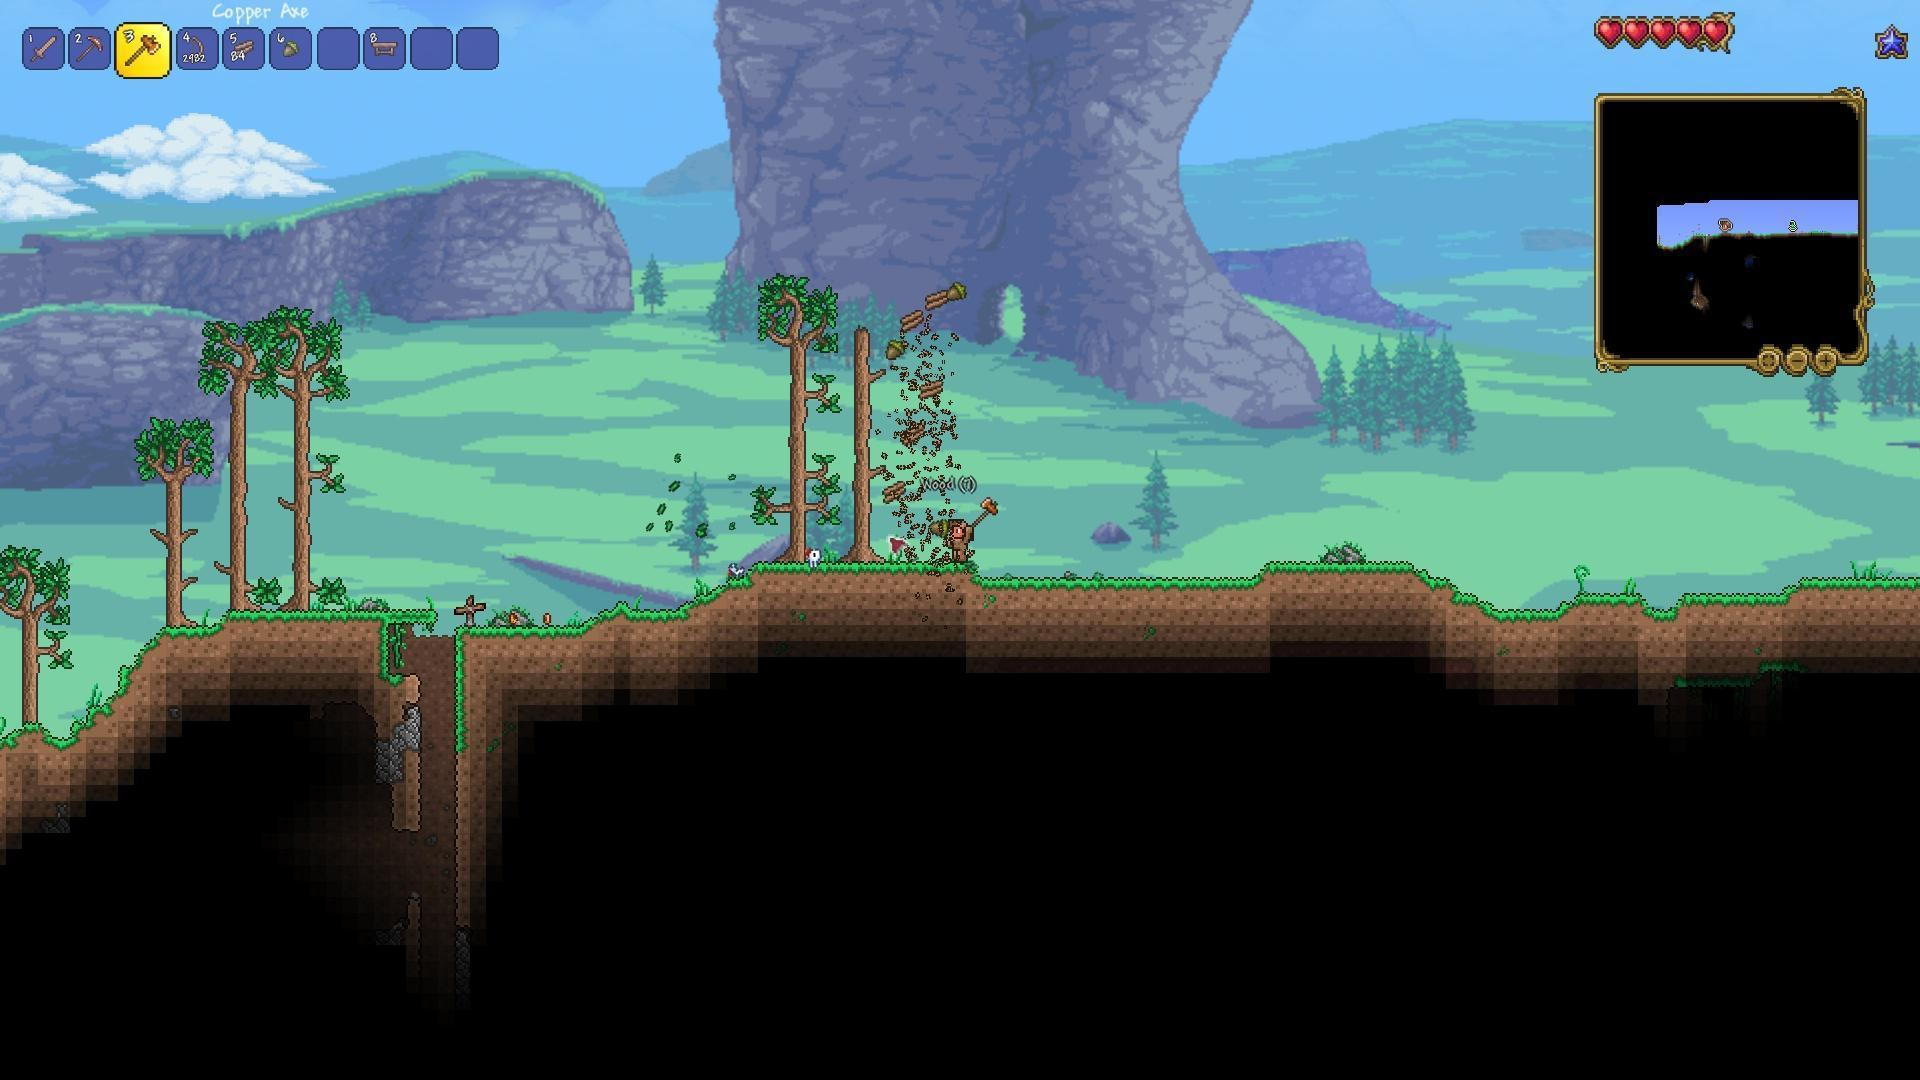wood: (891, 309, 924, 339), (919, 278, 951, 309), (914, 375, 945, 405), (877, 480, 910, 509), (229, 32, 255, 65)
workbench: (367, 37, 404, 62)
